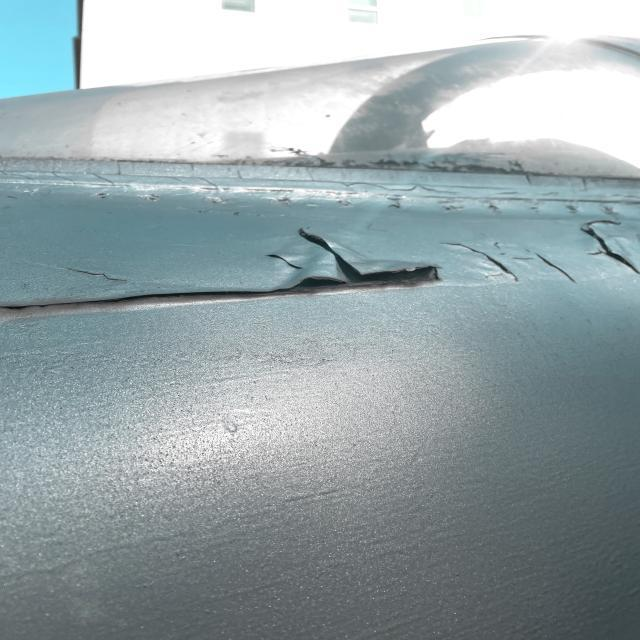crack: (443, 237, 576, 289), (60, 262, 133, 285), (261, 248, 307, 272)
